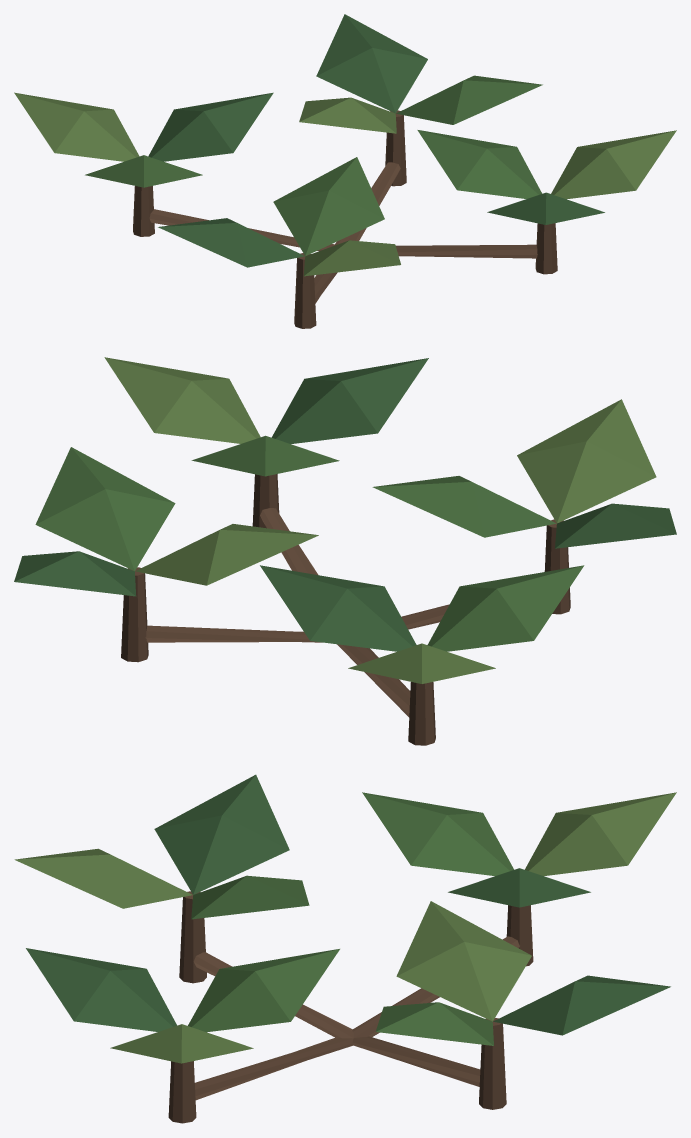
The model's file is wild_strawberry_summer_picked.glb.
3 renders of one model, top to bottom at view 1: azimuth 30°, elevation 25°; view 2: azimuth 150°, elevation 25°; view 3: azimuth 270°, elevation 25°, orthographic. The views are drawn at different scales.
Visible parts, largest first — view 1: wild_strawberry_summer_picked; view 2: wild_strawberry_summer_picked; view 3: wild_strawberry_summer_picked.
Part boxes in pixels (left/top/right/bottom): wild_strawberry_summer_picked: left=14, top=14, right=676, bottom=328; wild_strawberry_summer_picked: left=14, top=357, right=676, bottom=745; wild_strawberry_summer_picked: left=14, top=774, right=676, bottom=1123.
Bounding box in the file's own units: 1.28 × 0.27 × 1.24.
